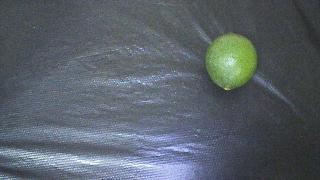LOCAL: (205, 33, 257, 91)
